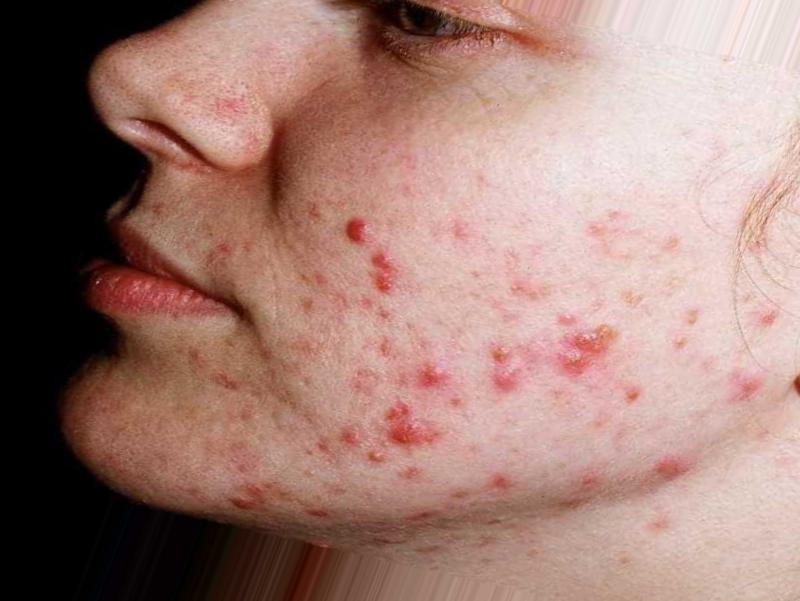Acne: (162, 153, 780, 554)
